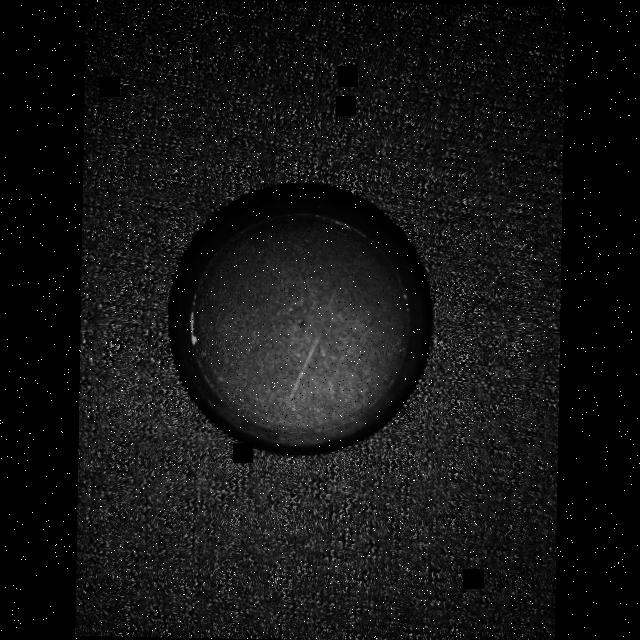plastic_bottle_cap: (165, 188, 435, 458)
